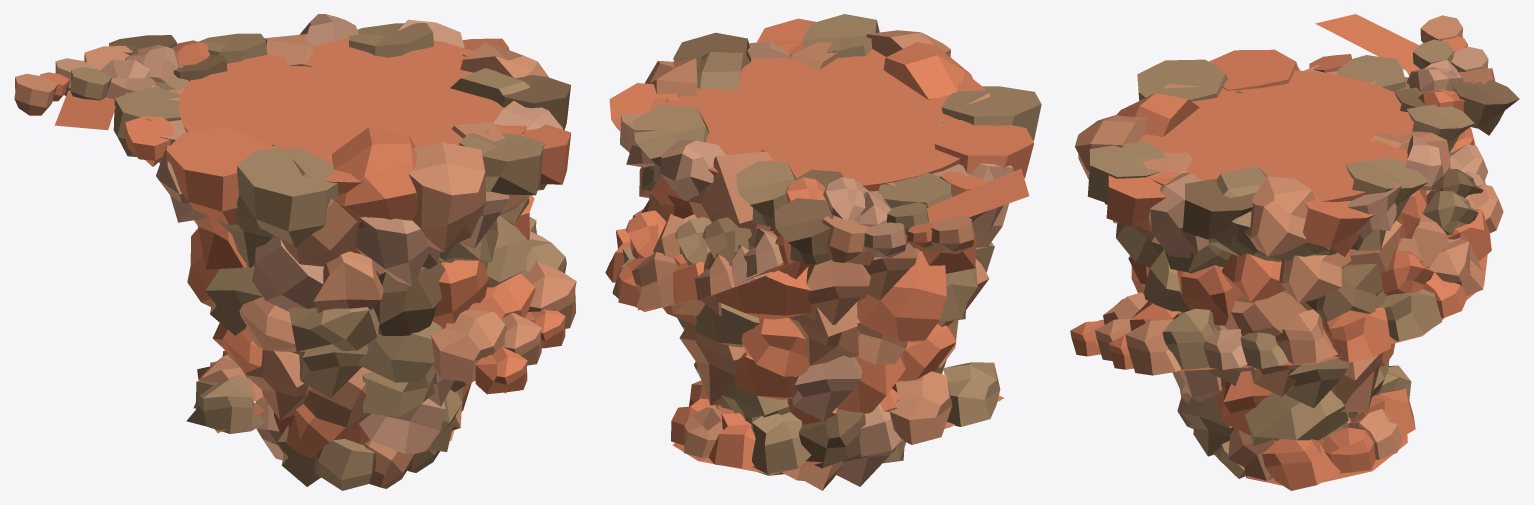
The model's file is mountain_+1.fbx.
The picture shows the model from 3 angles, left to right: view 1: azimuth 30°, elevation 25°; view 2: azimuth 150°, elevation 25°; view 3: azimuth 270°, elevation 25°; orthographic projection. The views are drawn at different scales.
Parts seen in each view (by area): view 1: Cylinder.000; view 2: Cylinder.000; view 3: Cylinder.000.
Boxes of the visible parts, <box> form: Cylinder.000: <box>14,14,576,490</box>; Cylinder.000: <box>605,14,1041,490</box>; Cylinder.000: <box>1070,14,1519,490</box>.
Size of the model in its own units: 27436 by 22933 by 26699.
